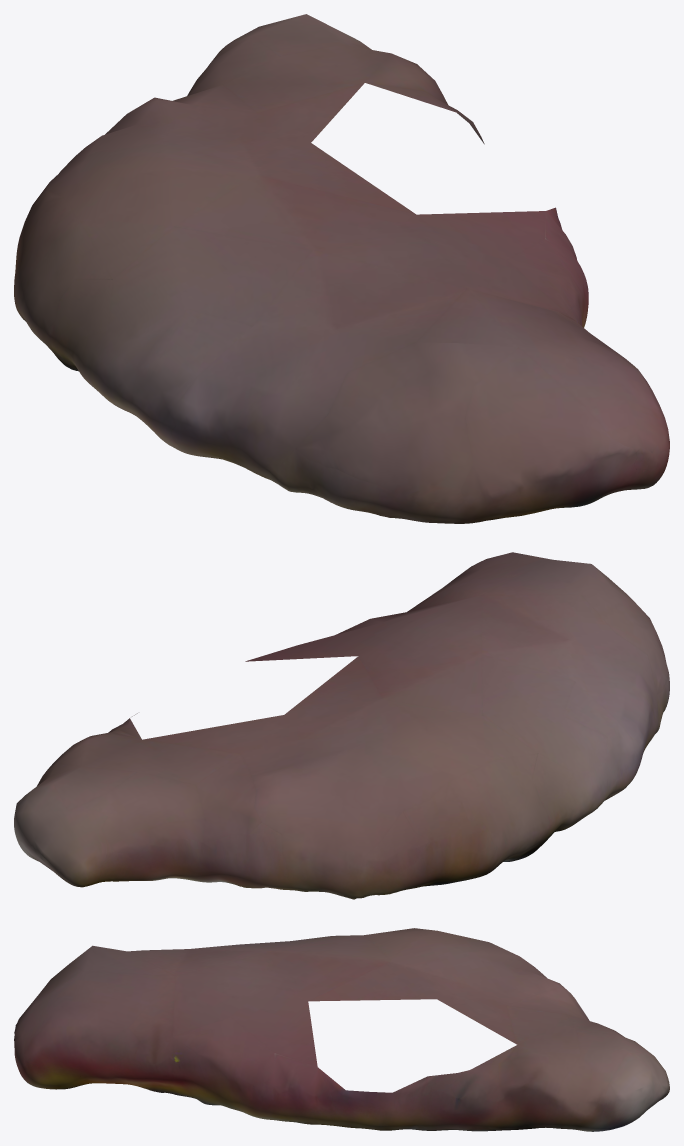
The picture shows the model from 3 angles, top to bottom: view 1: azimuth 30°, elevation 25°; view 2: azimuth 150°, elevation 25°; view 3: azimuth 270°, elevation 25°; orthographic projection. The views are drawn at different scales.
Size of the model in its own units: 0.4215 by 0.1277 by 0.7262.
Materials: 1 (1 with a texture image).
